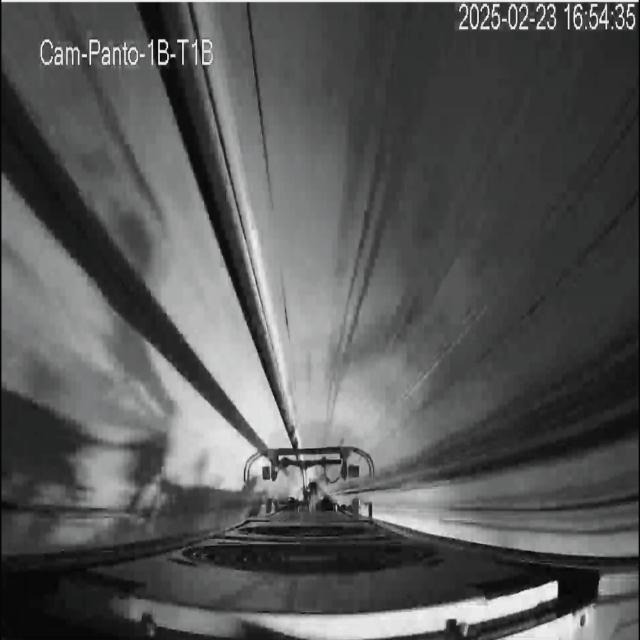Camera Stamp: (42, 33, 218, 68)
Date Stamp: (457, 3, 636, 33)
No - Spark: (244, 445, 375, 516)
